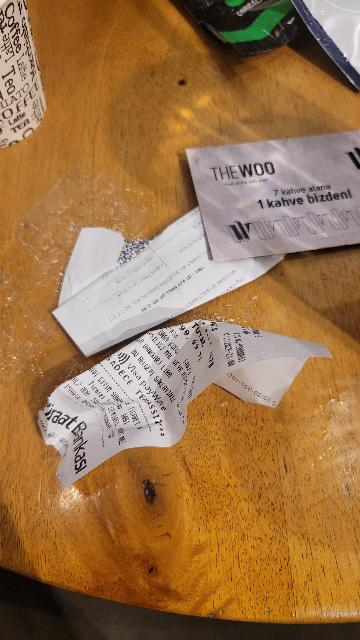Kagit: (37, 315, 327, 483), (43, 202, 287, 329), (176, 131, 360, 263), (0, 0, 71, 158)
